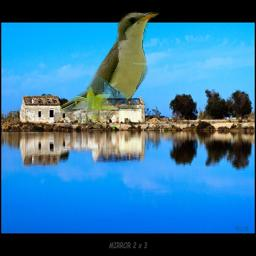Cuckoo: (60, 9, 160, 127)
